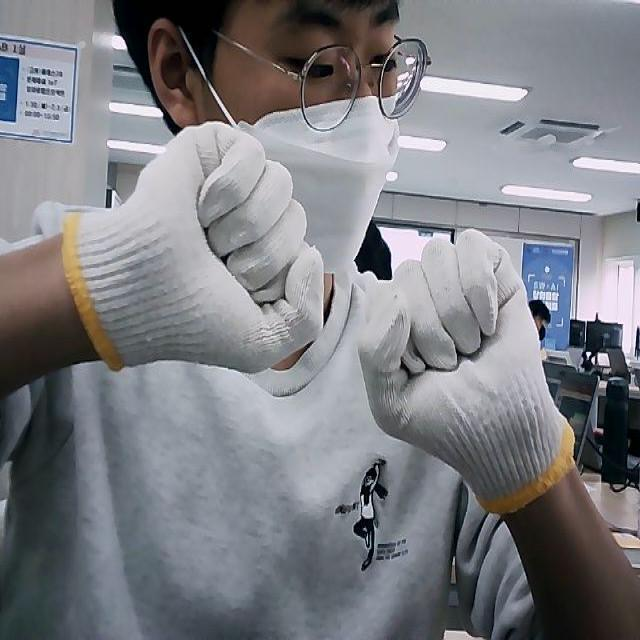gloves: (61, 122, 326, 370), (362, 231, 576, 508)
